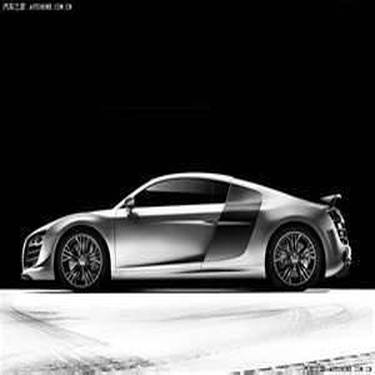car: (16, 167, 357, 304)
